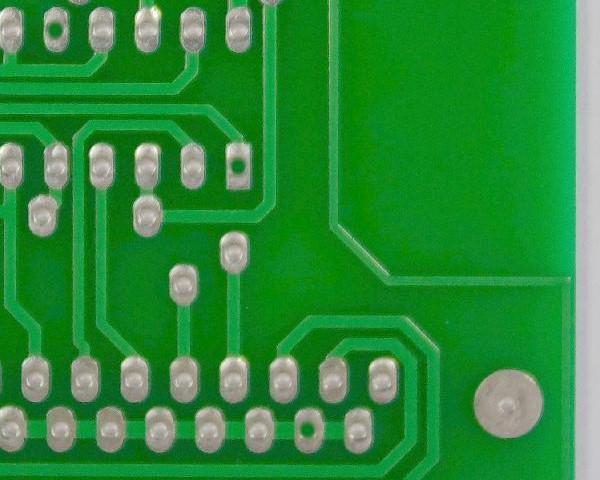missing hole: (221, 135, 259, 198), (37, 2, 74, 57), (291, 406, 329, 456)
